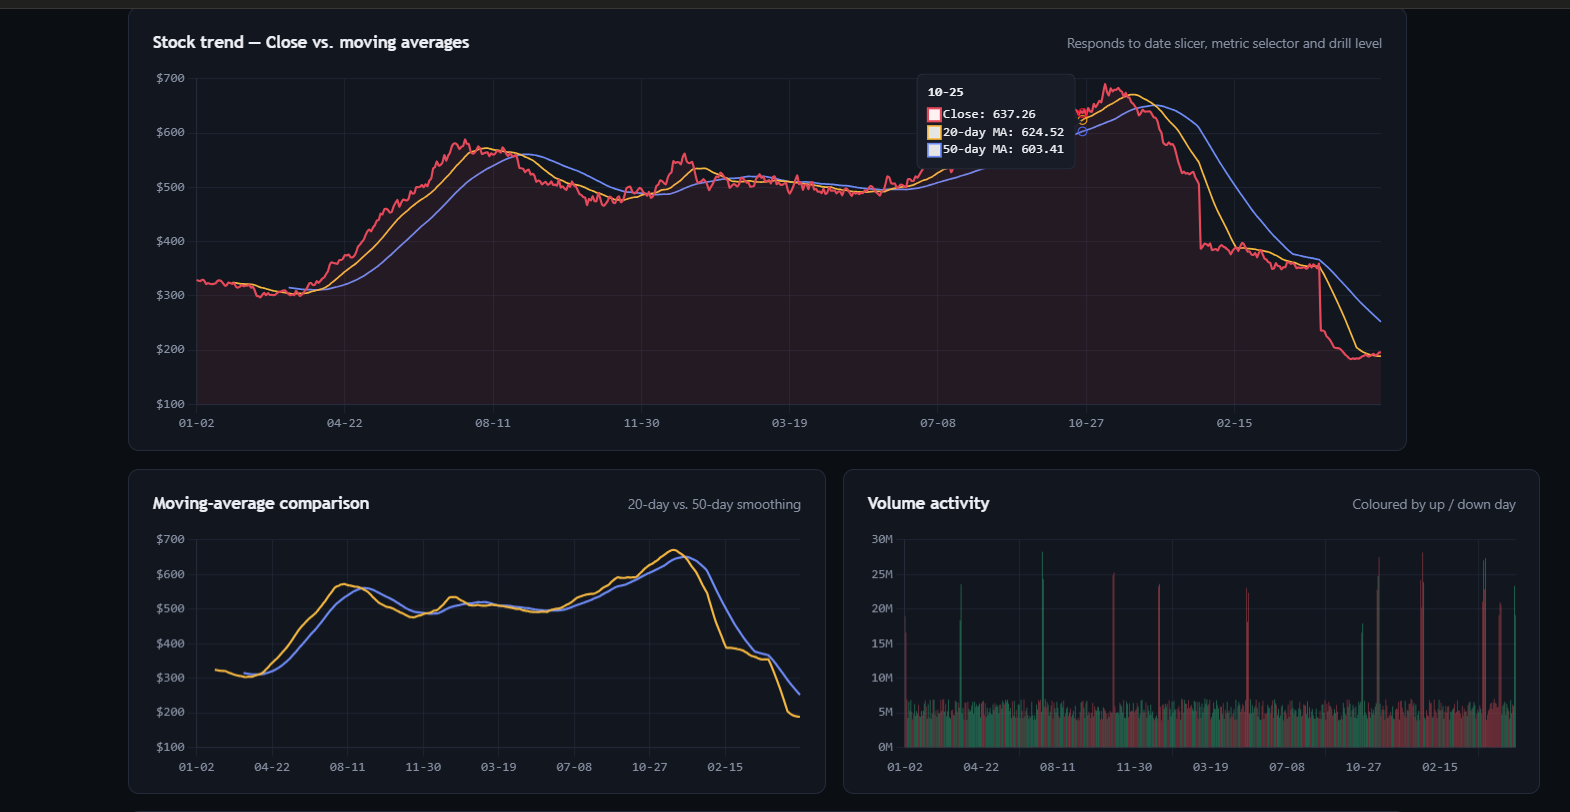

The dashboard page shown, as its layout file describes it:
{"tool":"powerbi","page":{"name":"Page 1","canvas":[1920,1080],"ordinal":0},"visuals":[{"type":"lineChart","fields":{"Category":["DateTable.Date.Variation.Date Hierarchy.Year","DateTable.Date.Variation.Date Hierarchy.Quarter","DateTable.Date.Variation.Date Hierarchy.Month","DateTable.Date.Variation.Date Hierarchy.Day"],"Y":["CountNonNull(NFLX.Close)","Measuress.50_day_moving","Measuress.20_day_moving"]},"box":[10.3,0,504.3,422],"z":0},{"type":"slicer","fields":{"Values":["AVG_METRIC.AVG_METRIC"]},"box":[10,432,504,422],"z":1},{"type":"lineChart","fields":{"Category":["DateTable.Date.Variation.Date Hierarchy.Year","DateTable.Date.Variation.Date Hierarchy.Quarter","DateTable.Date.Variation.Date Hierarchy.Month","DateTable.Date.Variation.Date Hierarchy.Day"],"Y":["Measuress.20_day_moving","Measuress.50_day_moving"]},"box":[541.3,0,553.7,422],"z":2},{"type":"slicer","fields":{"Values":["DateTable.Date"]},"box":[1148.5,0,570.2,422],"z":3},{"type":"columnChart","fields":{"Category":["DateTable.Date.Variation.Date Hierarchy.Year","DateTable.Date.Variation.Date Hierarchy.Quarter","DateTable.Date.Variation.Date Hierarchy.Month","DateTable.Date.Variation.Date Hierarchy.Day"],"Y":["CountNonNull(NFLX.Volume)"]},"box":[580.4,477.5,623.7,376.7],"z":4}]}

Visuals, with their boxes on the page's 1920x1080 design canvas (x1, y1, x2, y2). These are canvas units, not pixel positions in the 1570x812 screenshot, which may show the page scaled, cropped or inside an application window:
lineChart - DateTable.Date.Variation.Date Hierarchy.Year x DateTable.Date.Variation.Date Hierarchy.Quarter: box(10, 0, 515, 422)
slicer - AVG_METRIC.AVG_METRIC: box(10, 432, 514, 854)
lineChart - DateTable.Date.Variation.Date Hierarchy.Year x DateTable.Date.Variation.Date Hierarchy.Quarter: box(541, 0, 1095, 422)
slicer - DateTable.Date: box(1148, 0, 1719, 422)
columnChart - DateTable.Date.Variation.Date Hierarchy.Year x DateTable.Date.Variation.Date Hierarchy.Quarter: box(580, 478, 1204, 854)
